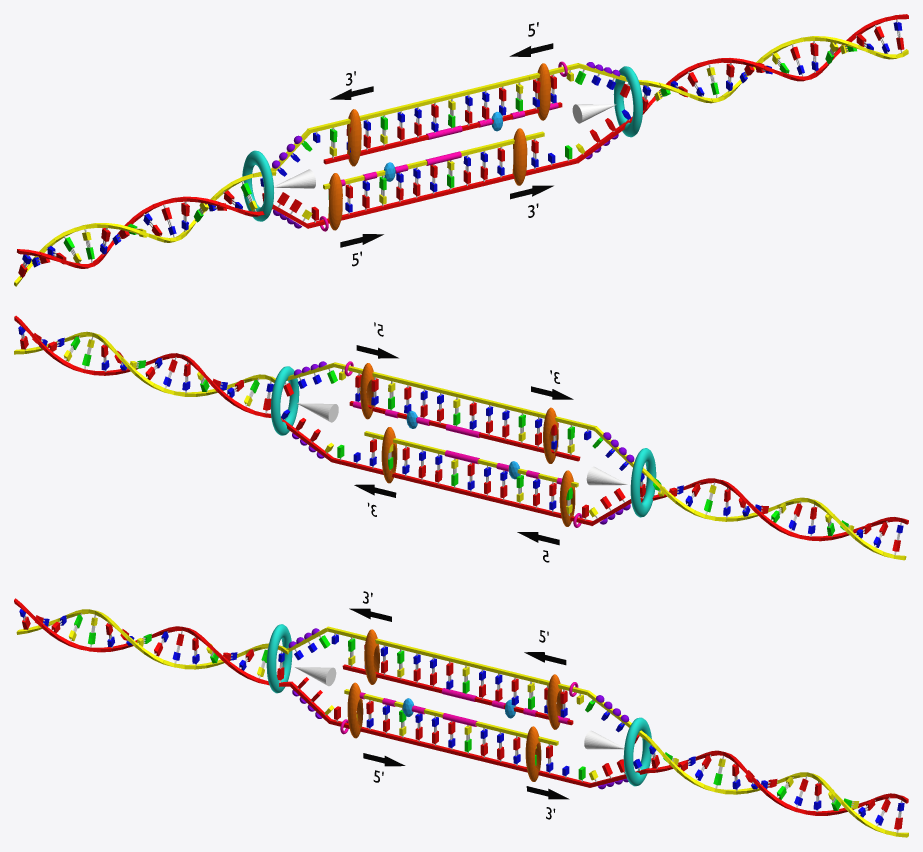
The model's file is DNA Replication Model.fbx.
The picture shows the model from 3 angles, top to bottom: view 1: azimuth 30°, elevation 25°; view 2: azimuth 150°, elevation 25°; view 3: azimuth 330°, elevation 25°; orthographic projection. The views are drawn at different scales.
Parts seen in each view (by area): view 1: DNA, DNA.001, Torus, Torus.002, Sphere.020, Sphere.022, Sphere.023, Sphere.021; view 2: DNA, DNA.001, Torus.002, Torus, Sphere.021, Sphere.020, Sphere.023, Sphere.022; view 3: DNA, DNA.001, Torus, Torus.002, Sphere.022, Sphere.020, Sphere.023, Sphere.021.
Boxes of the visible parts, x1,y1,x2,y2 form: DNA: (638, 14, 908, 114); DNA.001: (14, 171, 276, 286); Torus: (613, 66, 642, 137); Torus.002: (242, 150, 273, 221); Sphere.020: (512, 128, 527, 185); Sphere.022: (328, 173, 342, 230); Sphere.023: (347, 109, 361, 166); Sphere.021: (537, 63, 550, 120); DNA: (14, 315, 275, 417); DNA.001: (640, 467, 908, 560); Torus.002: (630, 448, 656, 517); Torus: (270, 366, 299, 435); Sphere.021: (360, 363, 375, 419); Sphere.020: (381, 427, 397, 483); Sphere.023: (543, 407, 558, 463); Sphere.022: (559, 470, 575, 526); DNA: (645, 735, 908, 837); DNA.001: (14, 598, 291, 686); Torus: (623, 717, 651, 786); Torus.002: (266, 624, 292, 693); Sphere.022: (347, 682, 363, 738); Sphere.020: (525, 726, 541, 781); Sphere.023: (364, 629, 379, 684); Sphere.021: (547, 674, 562, 729).
Bounding box in the file's own units: 5362 × 1141 × 373.
